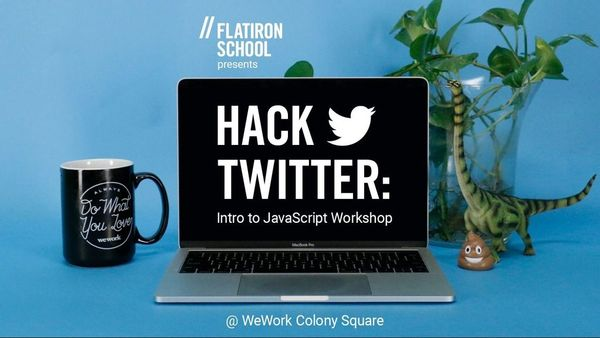wework: (96, 233, 122, 244)
